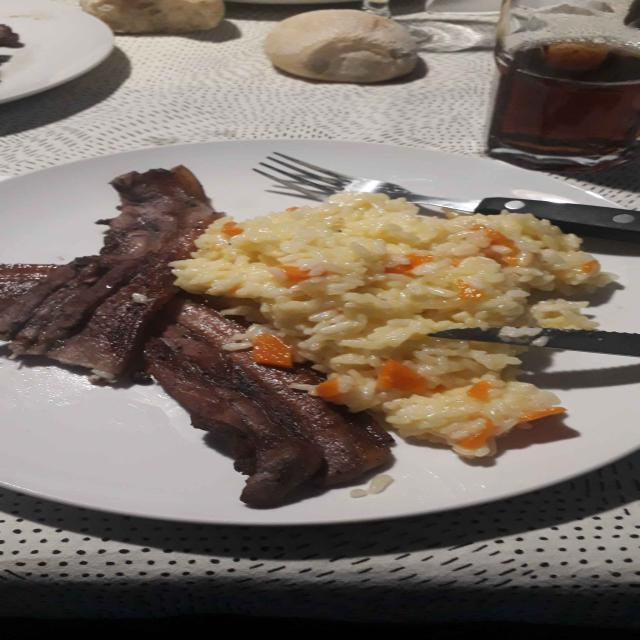cup: (487, 0, 639, 167)
fork: (0, 351, 639, 526), (0, 140, 619, 264), (254, 152, 639, 244), (587, 245, 639, 332)
knife: (430, 328, 639, 358)
plate: (0, 141, 639, 525)
pork belly: (0, 166, 392, 508)
rice: (172, 191, 610, 458)
